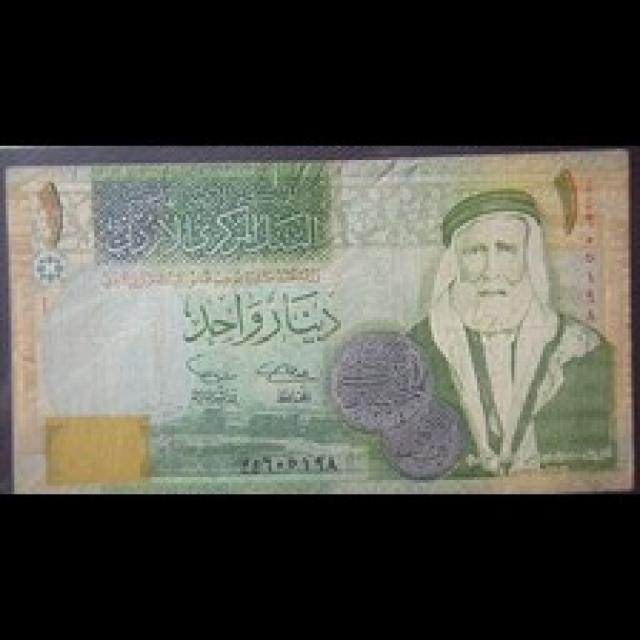banknote: (0, 143, 637, 494)
